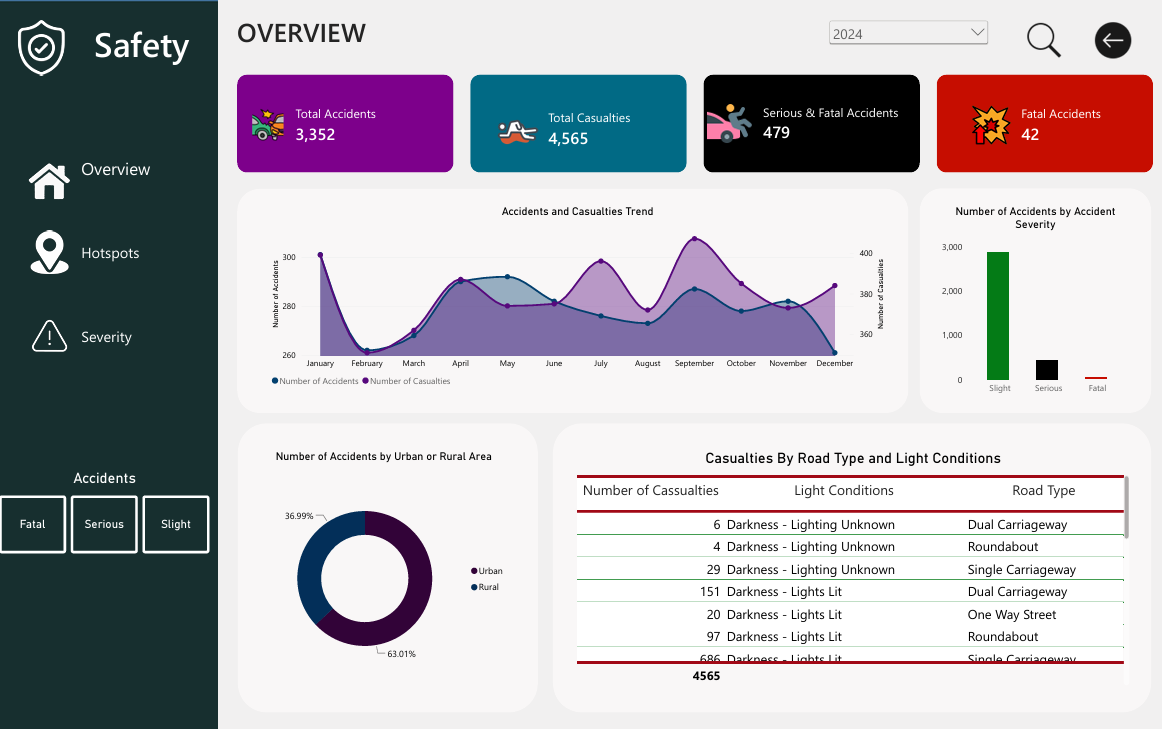

This screenshot's page, from the dashboard's own definition file:
{"tool":"powerbi","page":{"name":"Overview","canvas":[1920,1200],"ordinal":0},"visuals":[{"type":"shape","box":[367.5,0,1552.5,1199.5],"z":0},{"type":"cardVisual","fields":{"Data":["Road Safety Clean.Serious & Fatal Accidents"]},"box":[1248.1,140.1,269.4,124.8],"z":0,"group":"g2"},{"type":"shape","box":[398.5,121.8,355.1,161],"z":1000},{"type":"image","box":[1169.3,164.2,78.8,76.6],"z":1000,"group":"g2"},{"type":"shape","box":[398.5,309.7,1104.5,369.5],"z":2000},{"type":"shape","box":[398.5,696.4,494.9,475.2],"z":3000},{"type":"shape","box":[1521.9,308.8,381,370.1],"z":4000},{"type":"group","id":"g1","title":"Group 4","box":[419.1,142.5,291.1,123.9],"z":5000},{"type":"cardVisual","fields":{"Data":["Road Safety Clean.No of Accidents"]},"box":[478.2,142.5,232.1,124.8],"z":6000,"group":"g1"},{"type":"lineChart","title":"Accidents and Casualties Trend","fields":{"Category":["Road Safety Clean.Accident Date.Variation.Date Hierarchy.Year","Road Safety Clean.Accident Date.Variation.Date Hierarchy.Month"],"Y":["CountNonNull(Road Safety Clean.Accident_Severity)"],"Y2":["Sum(Road Safety Clean.Number_of_Casualties)"]},"box":[438,322,1040.5,334.5],"z":6000},{"type":"cardVisual","fields":{"Data":["Road Safety Clean.Total Casualties"]},"box":[893.4,148.9,199.3,124.8],"z":7000,"group":"g4"},{"type":"donutChart","fields":{"Category":["Road Safety Clean.Urban_or_Rural_Area"],"Y":["CountNonNull(Road Safety Clean.Accident_Severity)"]},"box":[418.2,724.8,442.3,418.2],"z":7000},{"type":"cardVisual","fields":{"Data":["Road Safety Clean.Fatal Accidents"]},"box":[1673,142.3,175.2,124.8],"z":8000,"group":"g3"},{"type":"clusteredColumnChart","title":"Number of Accidents by Accident Severity","fields":{"Category":["Road Safety Clean.Accident_Severity"],"Y":["CountNonNull(Road Safety Clean.Accident_Severity)"]},"box":[1541.6,321.9,341.6,346],"z":8000},{"type":"textbox","box":[398.5,22.7,237.4,82.6],"z":9000},{"type":"image","box":[419.1,166.6,59.1,76.6],"z":9000,"group":"g1"},{"type":"image","box":[1692.5,32.5,67.5,65],"z":10000},{"type":"image","box":[825.5,173,67.9,76.6],"z":10000,"group":"g4"},{"type":"image","box":[1805,32.5,70,65],"z":11000},{"type":"image","box":[1607.3,166.4,65.7,76.6],"z":11000,"group":"g3"},{"type":"slicer","fields":{"Values":["Road Safety Clean.Accident Date.Variation.Date Hierarchy.Year"]},"box":[1367.5,27.5,272.5,75],"z":12000},{"type":"image","box":[48.2,254,81,78.8],"z":13000},{"type":"image","box":[48.2,378.8,81,72.3],"z":14000},{"type":"image","box":[48.2,519,81,65.7],"z":15000},{"type":"pageNavigator","box":[129.2,212.4,236.5,407.3],"z":16000},{"type":"advancedSlicerVisual","title":"Accidents","fields":{"Values":["Road Safety Clean.Accident_Severity"]},"box":[6.2,772.1,346.8,138.3],"z":17000},{"type":"image","box":[30.2,20.2,90.7,113.4],"z":18000},{"type":"textbox","box":[129.2,32.8,223.4,94.2],"z":19000},{"type":"shape","box":[1166.5,121.8,355.1,161],"z":20000},{"type":"shape","box":[1550.5,121.8,355.1,161],"z":21000},{"type":"shape","box":[782.5,121.8,355.1,161],"z":22000},{"type":"group","id":"g2","title":"Group 1","box":[1169.3,140.1,348.2,124.8],"z":23000},{"type":"group","id":"g3","title":"Group 2","box":[1607.3,142.3,240.9,124.8],"z":24000},{"type":"group","id":"g4","title":"Group 3","box":[825.5,148.9,267.2,124.8],"z":25000},{"type":"shape","box":[917.5,696.4,985.4,475.2],"z":26000},{"type":"tableEx","title":"Casualties By Road Type and Light Conditions","fields":{"Values":["Road Safety Clean.Light_Conditions","Road Safety Clean.Road_Type","Sum(Road Safety Clean.Number_of_Casualties)"]},"box":[941.6,724.8,941.6,418.2],"z":27000}]}

Visuals, with their boxes on the page's 1920x1200 design canvas (x1, y1, x2, y2). These are canvas units, not pixel positions in the 1168x729 screenshot, which may show the page scaled, cropped or inside an application window:
shape: [x1=368, y1=0, x2=1920, y2=1200]
cardVisual - Road Safety Clean.Serious & Fatal Accidents: [x1=1248, y1=140, x2=1518, y2=265]
shape: [x1=398, y1=122, x2=754, y2=283]
image: [x1=1169, y1=164, x2=1248, y2=241]
shape: [x1=398, y1=310, x2=1503, y2=679]
shape: [x1=398, y1=696, x2=893, y2=1172]
shape: [x1=1522, y1=309, x2=1903, y2=679]
"Group 4" group: [x1=419, y1=142, x2=710, y2=266]
cardVisual - Road Safety Clean.No of Accidents: [x1=478, y1=142, x2=710, y2=267]
"Accidents and Casualties Trend" lineChart: [x1=438, y1=322, x2=1478, y2=656]
cardVisual - Road Safety Clean.Total Casualties: [x1=893, y1=149, x2=1093, y2=274]
donutChart - Road Safety Clean.Urban_or_Rural_Area x CountNonNull(Road Safety Clean.Accident_Severity): [x1=418, y1=725, x2=860, y2=1143]
cardVisual - Road Safety Clean.Fatal Accidents: [x1=1673, y1=142, x2=1848, y2=267]
"Number of Accidents by Accident Severity" clusteredColumnChart: [x1=1542, y1=322, x2=1883, y2=668]
textbox: [x1=398, y1=23, x2=636, y2=105]
image: [x1=419, y1=167, x2=478, y2=243]
image: [x1=1692, y1=32, x2=1760, y2=98]
image: [x1=826, y1=173, x2=893, y2=250]
image: [x1=1805, y1=32, x2=1875, y2=98]
image: [x1=1607, y1=166, x2=1673, y2=243]
slicer - Road Safety Clean.Accident Date.Variation.Date Hierarchy.Year: [x1=1368, y1=28, x2=1640, y2=102]
image: [x1=48, y1=254, x2=129, y2=333]
image: [x1=48, y1=379, x2=129, y2=451]
image: [x1=48, y1=519, x2=129, y2=585]
pageNavigator: [x1=129, y1=212, x2=366, y2=620]
"Accidents" advancedSlicerVisual: [x1=6, y1=772, x2=353, y2=910]
image: [x1=30, y1=20, x2=121, y2=134]
textbox: [x1=129, y1=33, x2=353, y2=127]
shape: [x1=1166, y1=122, x2=1522, y2=283]
shape: [x1=1550, y1=122, x2=1906, y2=283]
shape: [x1=782, y1=122, x2=1138, y2=283]
"Group 1" group: [x1=1169, y1=140, x2=1518, y2=265]
"Group 2" group: [x1=1607, y1=142, x2=1848, y2=267]
"Group 3" group: [x1=826, y1=149, x2=1093, y2=274]
shape: [x1=918, y1=696, x2=1903, y2=1172]
"Casualties By Road Type and Light Conditions" tableEx: [x1=942, y1=725, x2=1883, y2=1143]
